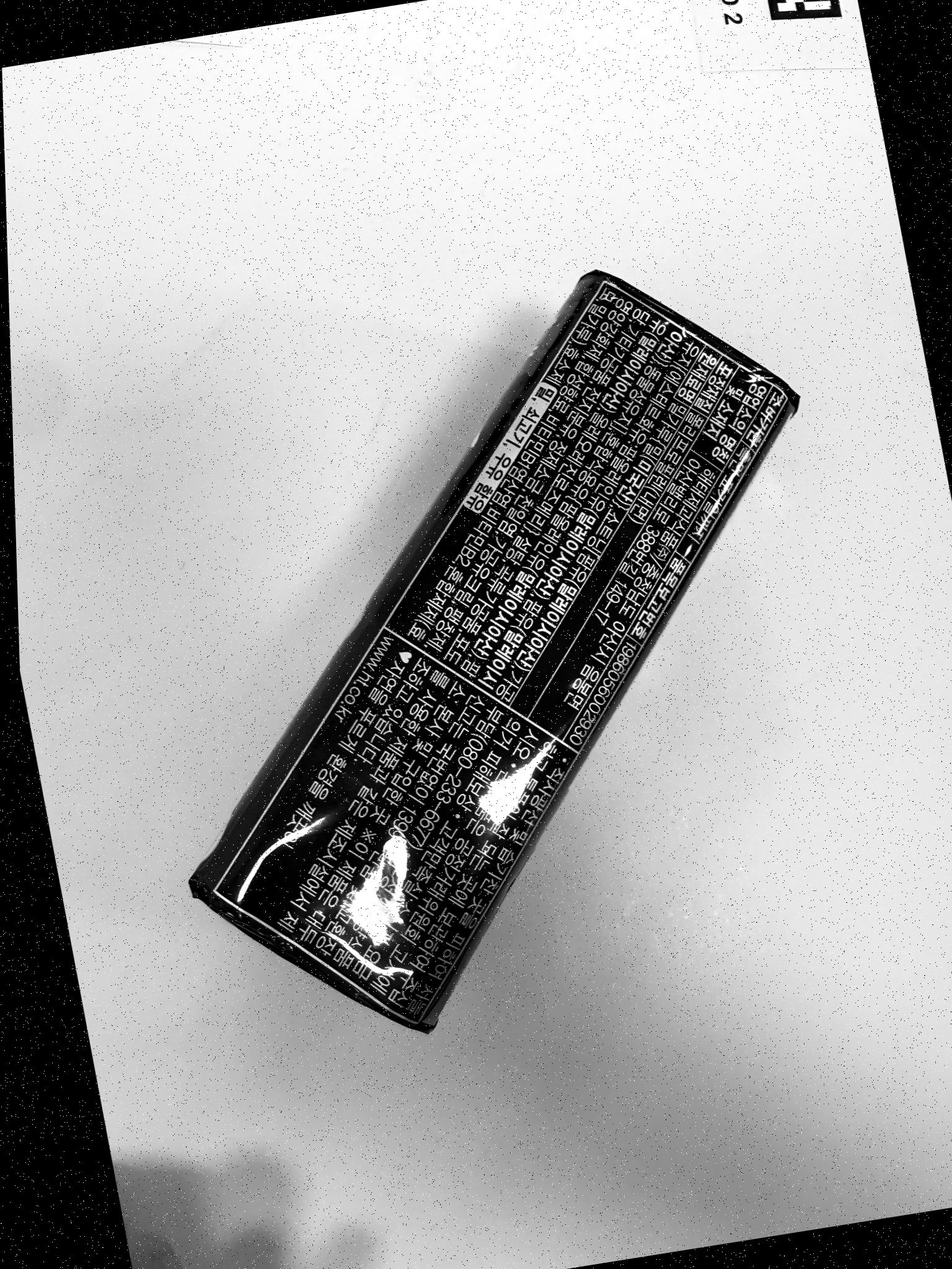cracker_ace: (192, 274, 797, 1029)
